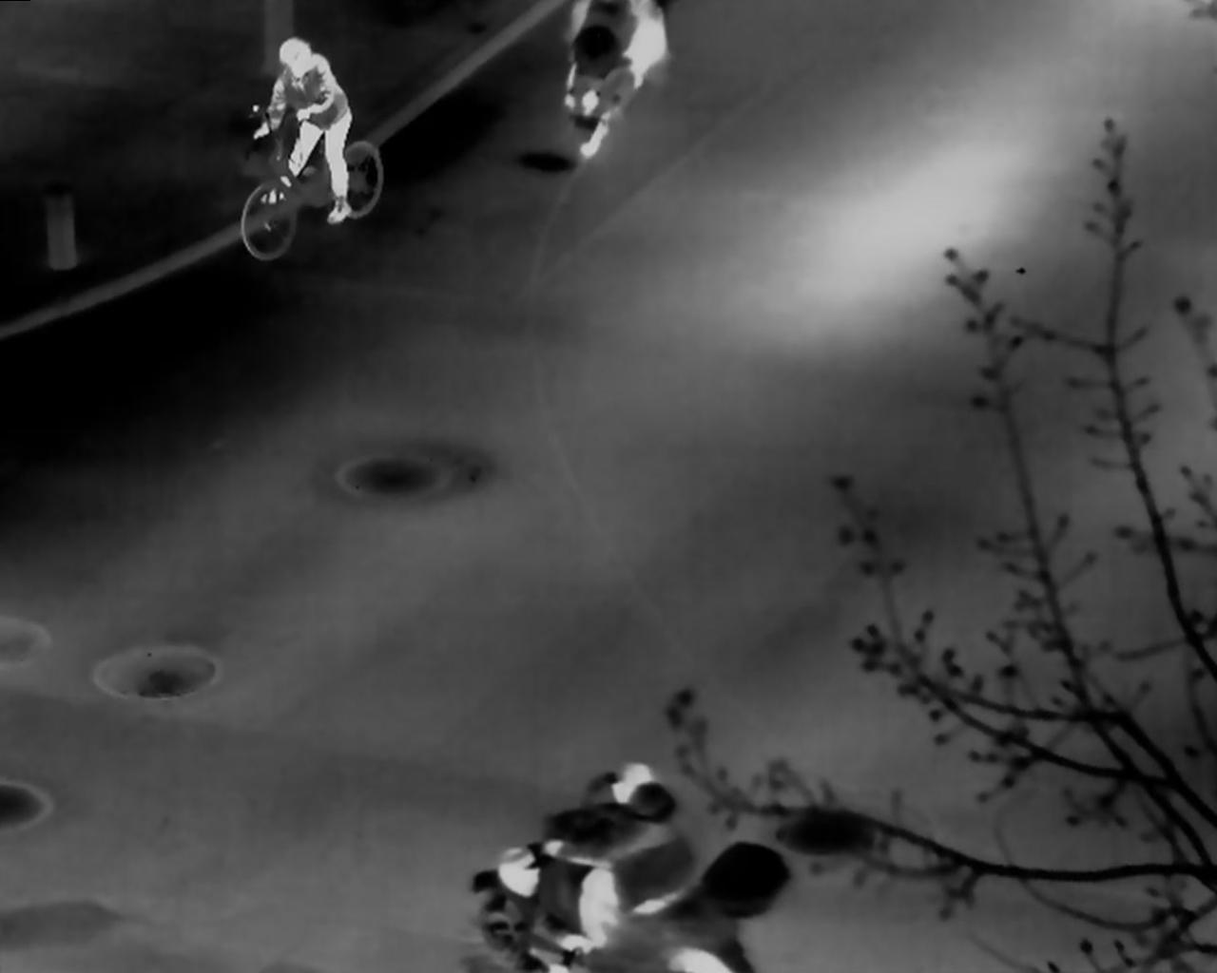person: (559, 766, 689, 973), (273, 40, 356, 224)
